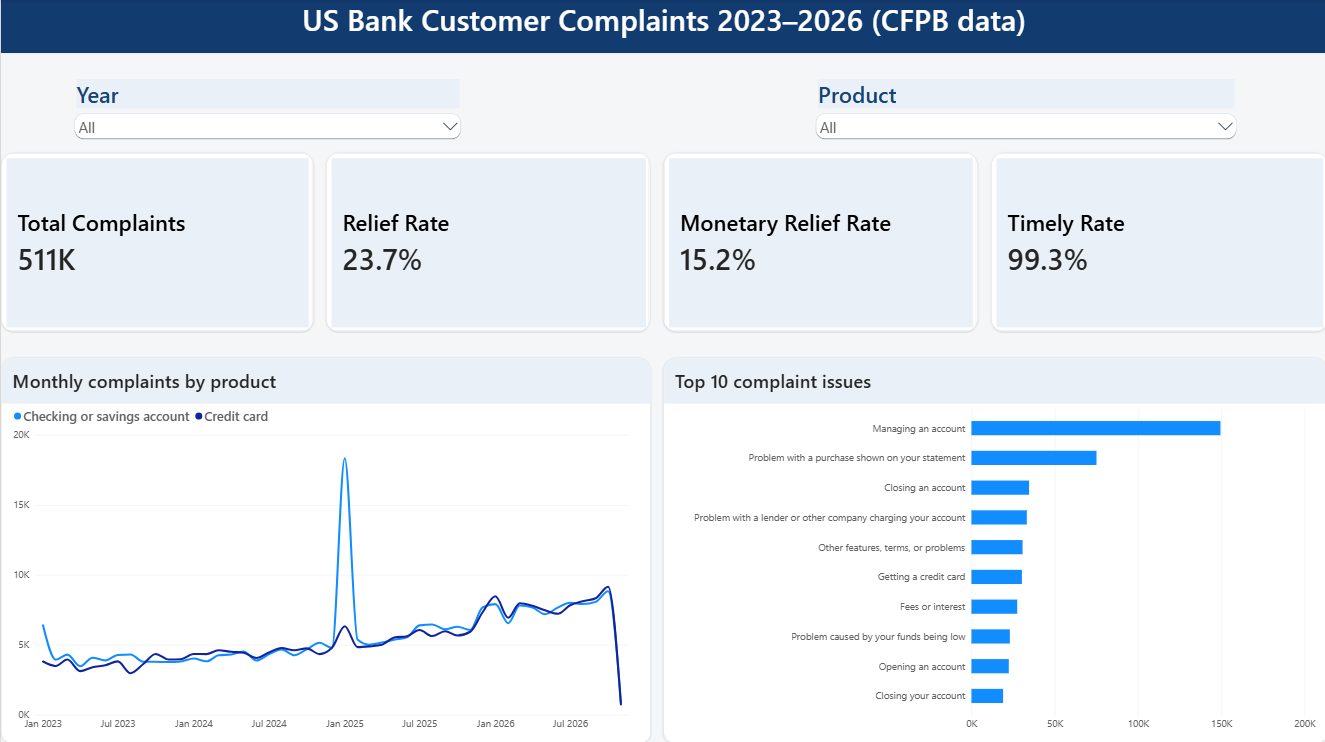

What the dashboard file says about the page in this screenshot:
{"tool":"powerbi","page":{"name":"Overview","canvas":[1920,1080],"ordinal":0},"visuals":[{"type":"cardVisual","fields":{"Data":["complaints_clean.Total Complaints"]},"box":[0,222.3,452.8,259.3],"z":0},{"type":"cardVisual","fields":{"Data":["complaints_clean.Relief Rate"]},"box":[471.4,222.3,469.3,259.3],"z":1000},{"type":"cardVisual","fields":{"Data":["complaints_clean.Monetary Relief Rate"]},"box":[959.2,222.3,454.9,259.3],"z":2000},{"type":"cardVisual","fields":{"Data":["complaints_clean.Timely Rate"]},"box":[1432.6,222.3,487.8,259.3],"z":3000},{"type":"lineChart","title":"Monthly complaints by product","fields":{"Category":["complaints_clean.year_month"],"Series":["complaints_clean.product"],"Y":["complaints_clean.Total Complaints"]},"box":[0,518.7,940.7,561.9],"z":4000},{"type":"clusteredBarChart","title":"Top 10 complaint issues","fields":{"Category":["complaints_clean.issue"],"Y":["complaints_clean.Total Complaints"]},"box":[959.2,518.7,961.2,561.9],"z":5000},{"type":"slicer","fields":{"Values":["complaints_clean.product"]},"box":[1175.3,115.3,619.6,88.5],"z":6000},{"type":"slicer","fields":{"Values":["complaints_clean.year"]},"box":[100.9,115.3,570.2,88.5],"z":7000},{"type":"shape","box":[0,0,1920.4,78.2],"z":8000},{"type":"textbox","box":[0,0,1920.4,78.2],"z":9000}]}

Visuals, with their boxes in screenshot pixels (x1, y1, x2, y2), scaled from the page's 1920x1080 canvas onto the 1325x742 screenshot:
cardVisual - complaints_clean.Total Complaints: 0,153,312,331
cardVisual - complaints_clean.Relief Rate: 325,153,649,331
cardVisual - complaints_clean.Monetary Relief Rate: 662,153,976,331
cardVisual - complaints_clean.Timely Rate: 989,153,1324,331
"Monthly complaints by product" lineChart: 0,356,649,741
"Top 10 complaint issues" clusteredBarChart: 662,356,1324,741
slicer - complaints_clean.product: 811,79,1239,140
slicer - complaints_clean.year: 70,79,463,140
shape: 0,0,1324,54
textbox: 0,0,1324,54
